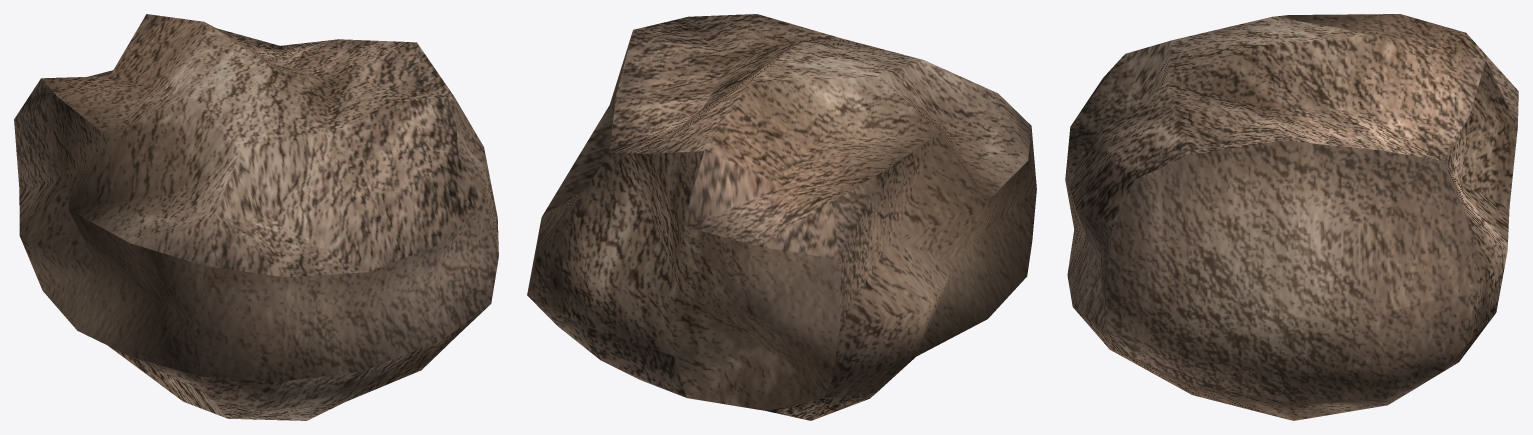
File: Asteroid3.fbx
3 views of the same model, side by side, from view 1: azimuth 30°, elevation 25°; view 2: azimuth 150°, elevation 25°; view 3: azimuth 270°, elevation 25° (orthographic). The views are drawn at different scales.
Parts seen in each view (by area): view 1: Asteroid3; view 2: Asteroid3; view 3: Asteroid3.
Boxes of the visible parts, x1=… form: Asteroid3: x1=14, y1=14, x2=498, y2=420; Asteroid3: x1=527, y1=14, x2=1036, y2=420; Asteroid3: x1=1065, y1=14, x2=1518, y2=420.
Size of the model in its own units: 392 by 320 by 389.
